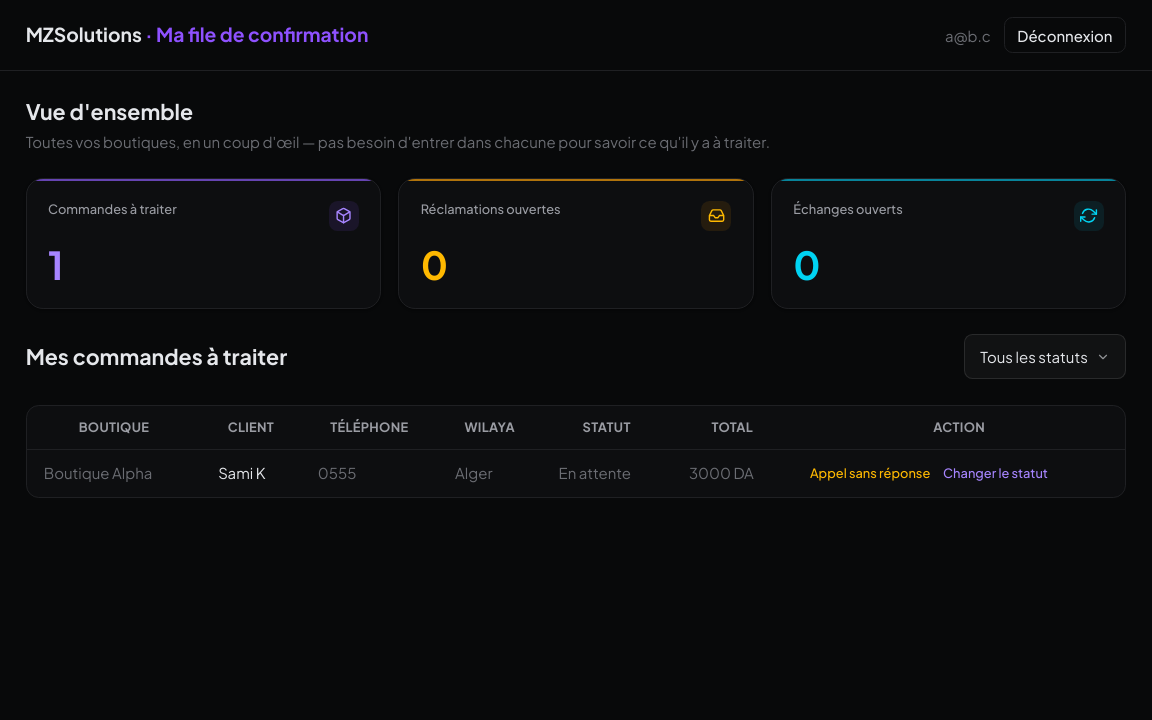
file du confirmateur › montre l'erreur du serveur si l'enregistrement échoue
Click the button "Appel sans réponse".
click(870, 473)  # box left=810, top=465, right=930, bottom=482
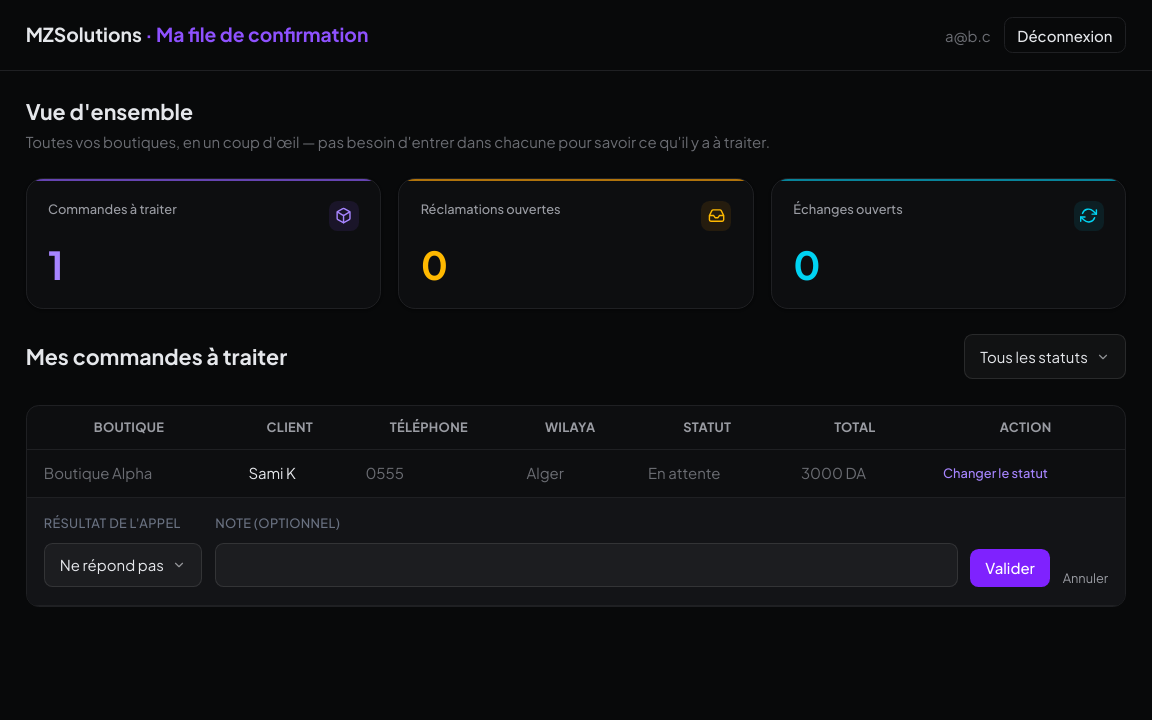
Click the button "Valider".
click(1010, 568)  # box left=970, top=549, right=1050, bottom=587
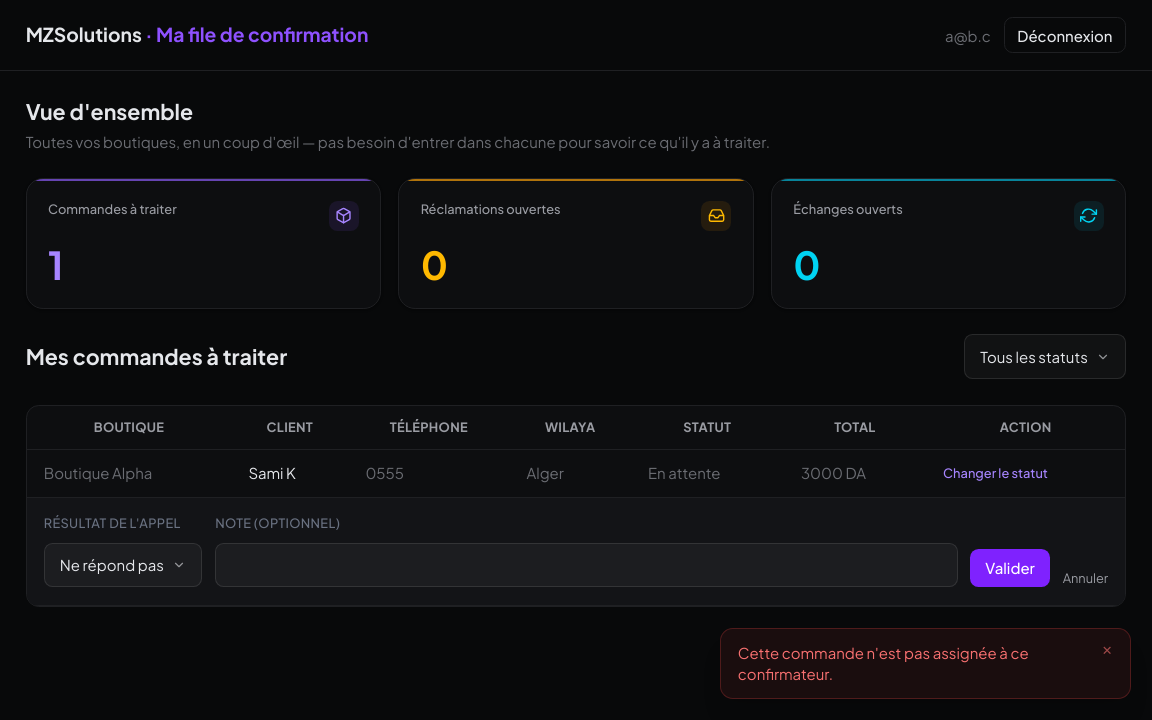
Now the text "Cette commande n'est pas assignée à ce confirmateur." is shown, box left=738, top=643, right=1029, bottom=683
